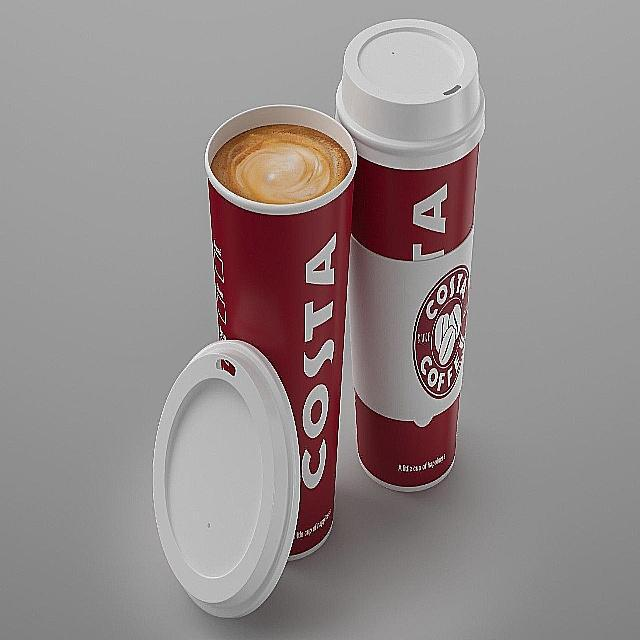paper_cup: (338, 25, 510, 525), (190, 96, 360, 574)
